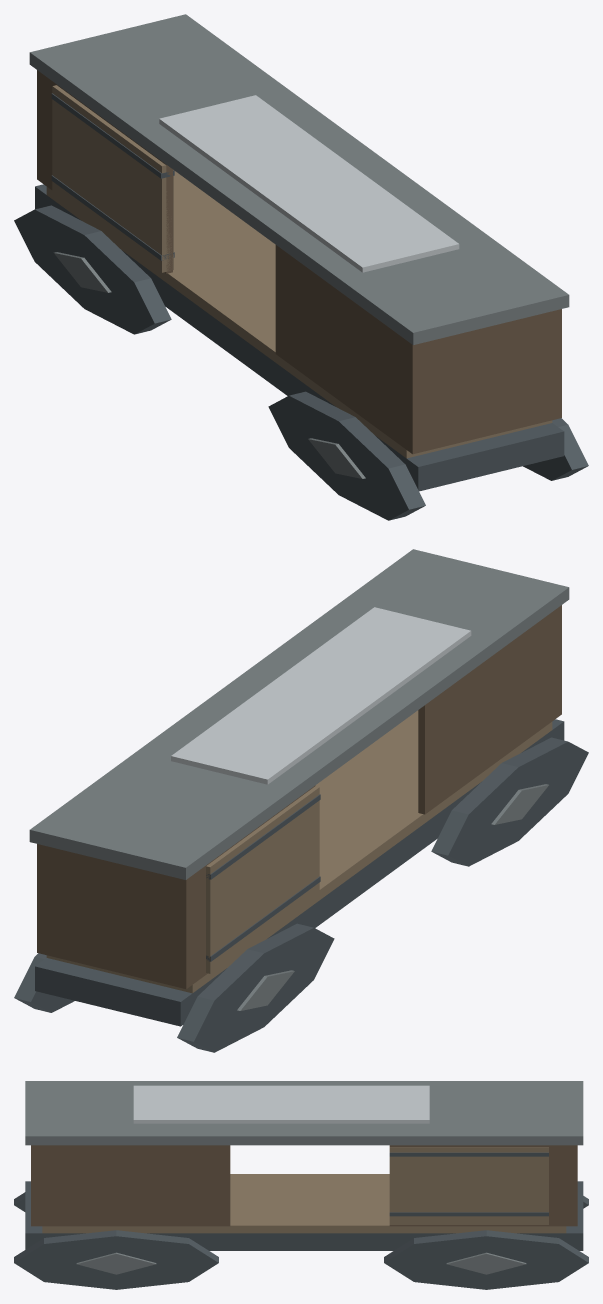
Rendered from box_wagon.glb.
The picture shows the model from 3 angles, top to bottom: view 1: azimuth 30°, elevation 25°; view 2: azimuth 150°, elevation 25°; view 3: azimuth 270°, elevation 25°; orthographic projection. The views are drawn at different scales.
Parts seen in each view (by area): view 1: box_wagon; view 2: box_wagon; view 3: box_wagon.
Boxes of the visible parts, x1,y1,x2,y2 form: box_wagon: (14,14,588,520); box_wagon: (14,549,588,1052); box_wagon: (14,1081,588,1289).
Bounding box in the file's own units: 2.88 × 3.1 × 10.56.
